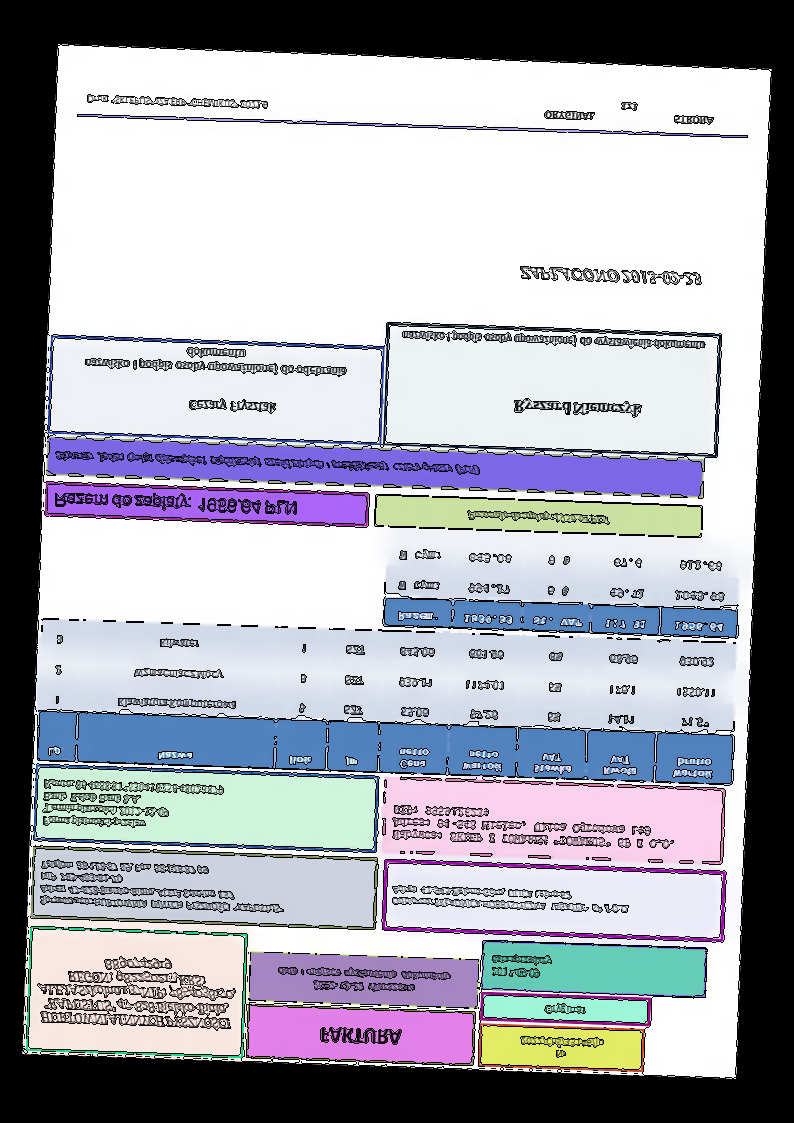Table: (35, 617, 738, 787), (382, 535, 742, 639)
TextBox: (35, 952, 240, 1032), (37, 857, 287, 915), (390, 803, 678, 852), (54, 447, 482, 478), (41, 777, 226, 834), (81, 344, 349, 379), (389, 883, 631, 918), (400, 327, 706, 353), (52, 488, 298, 518), (277, 964, 453, 996), (541, 97, 716, 127), (517, 264, 703, 288), (85, 92, 270, 111), (513, 398, 643, 420), (465, 509, 612, 527), (518, 1033, 606, 1061), (318, 1024, 403, 1048), (489, 952, 553, 981), (188, 397, 277, 415), (543, 1002, 587, 1018)
